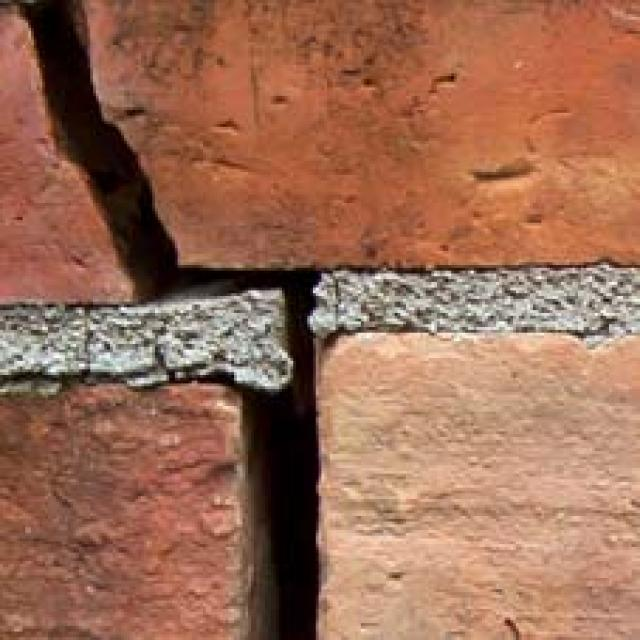Crack: (0, 0, 418, 640)
